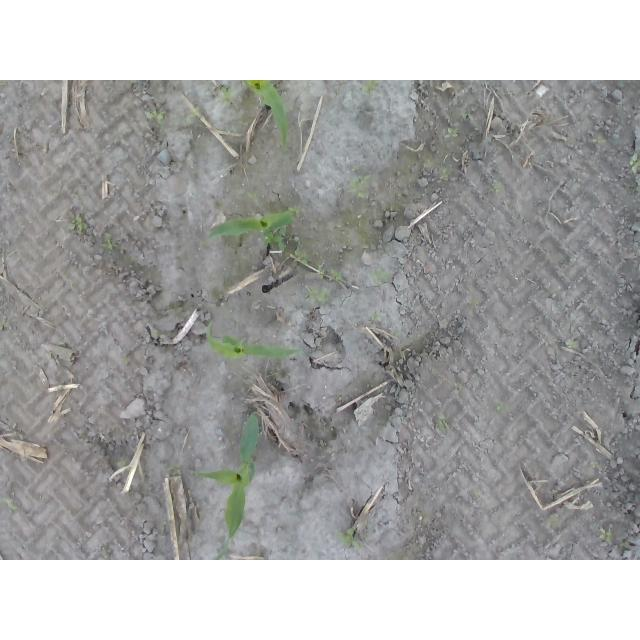Maize: (190, 409, 262, 560), (204, 322, 301, 362), (243, 81, 290, 148), (208, 210, 294, 239)
Weeds: (64, 212, 89, 233), (319, 263, 346, 282), (307, 288, 333, 305), (335, 527, 357, 547), (351, 175, 369, 199), (274, 226, 289, 252), (367, 270, 392, 284), (217, 88, 235, 107), (146, 109, 167, 123), (294, 247, 309, 266), (101, 232, 115, 252), (599, 527, 614, 545), (362, 80, 382, 92), (436, 416, 449, 433), (630, 153, 640, 174), (593, 135, 607, 145), (446, 128, 458, 139), (496, 402, 505, 414), (490, 180, 498, 193), (288, 207, 300, 215), (441, 167, 450, 177), (192, 107, 201, 117), (392, 328, 401, 337)
